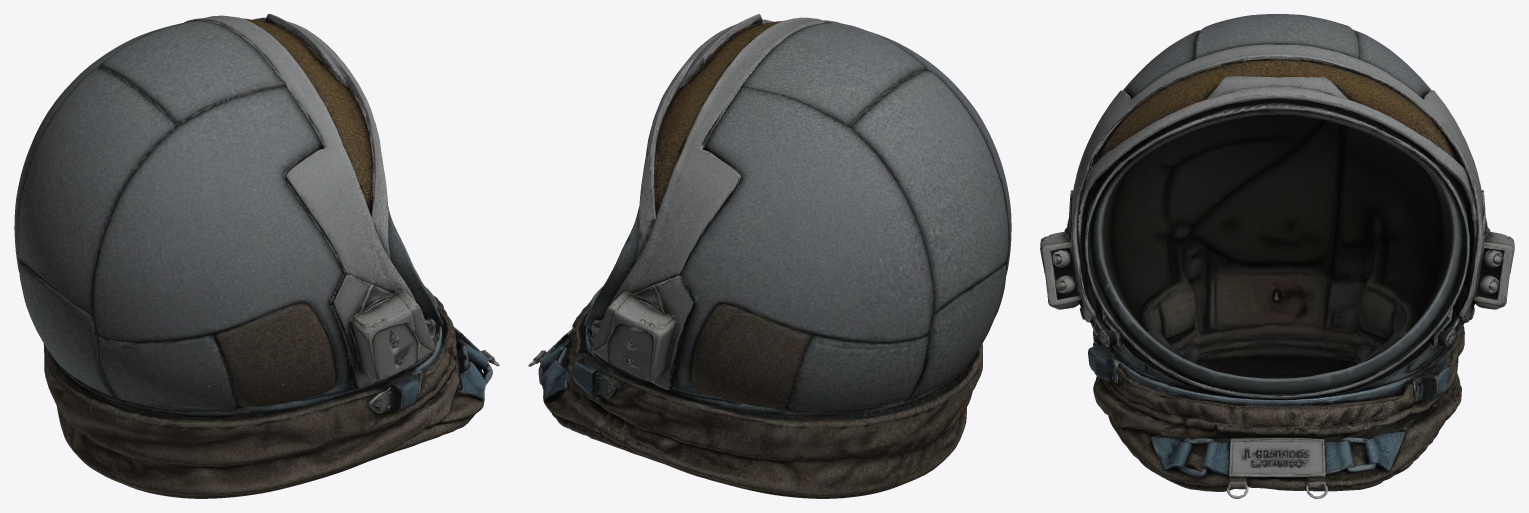
File: gravity.glb
3 views of the same model, side by side, from view 1: azimuth 30°, elevation 25°; view 2: azimuth 150°, elevation 25°; view 3: azimuth 270°, elevation 25° (orthographic). The views are drawn at different scales.
Parts seen in each view (by area): view 1: tripo_node_b0a8f946-7586-4c43-a3a2-6230ed2db69c; view 2: tripo_node_b0a8f946-7586-4c43-a3a2-6230ed2db69c; view 3: tripo_node_b0a8f946-7586-4c43-a3a2-6230ed2db69c.
Boxes of the visible parts, x1,y1,x2,y2 form: tripo_node_b0a8f946-7586-4c43-a3a2-6230ed2db69c: [14, 14, 499, 498]; tripo_node_b0a8f946-7586-4c43-a3a2-6230ed2db69c: [528, 14, 1011, 498]; tripo_node_b0a8f946-7586-4c43-a3a2-6230ed2db69c: [1040, 14, 1514, 498].
Size of the model in its own units: 0.9733 by 0.8652 by 0.9795.
1 material, 1 textured.
